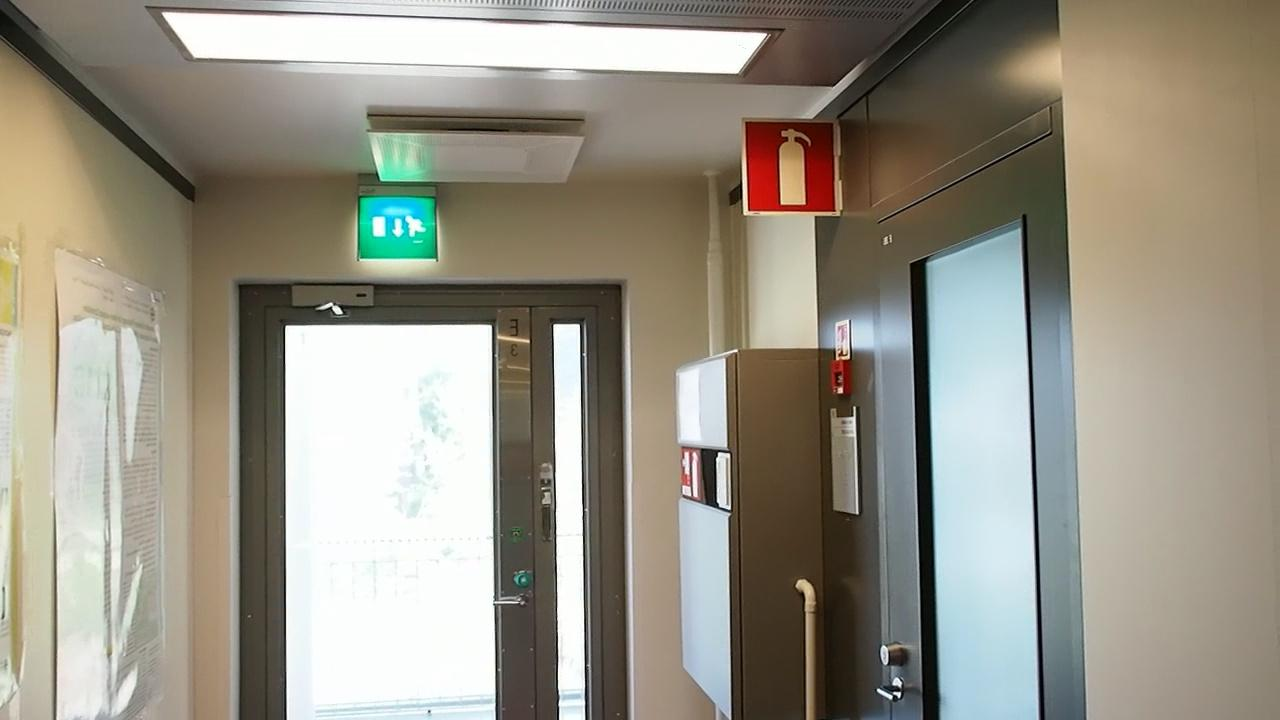exit: (351, 192, 438, 265)
fireextinguisher: (748, 119, 840, 214)
